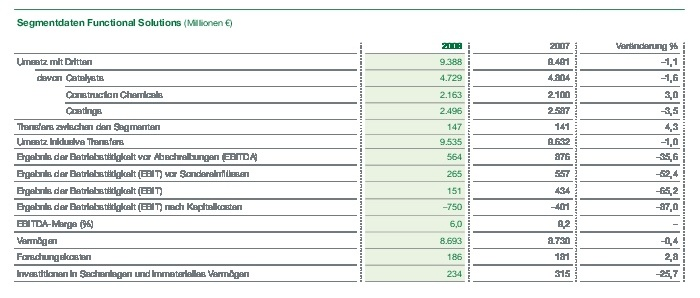table: (0, 0, 700, 298)
